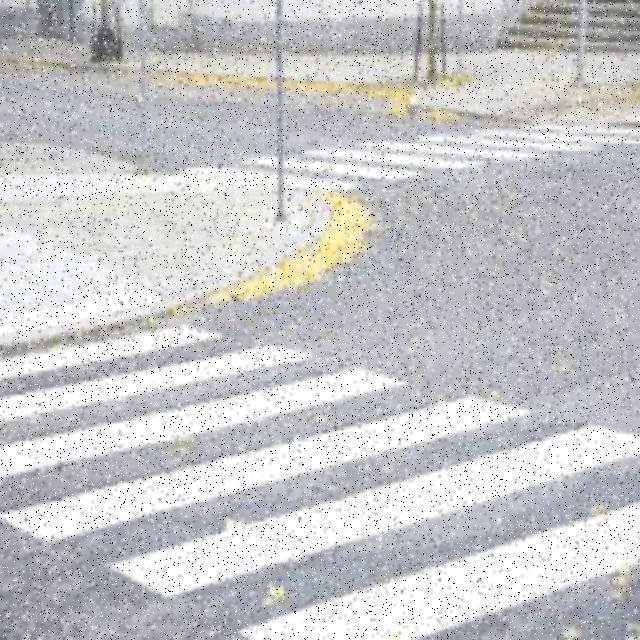Pedestrian crosswalk: (0, 308, 638, 637), (170, 116, 639, 193)
